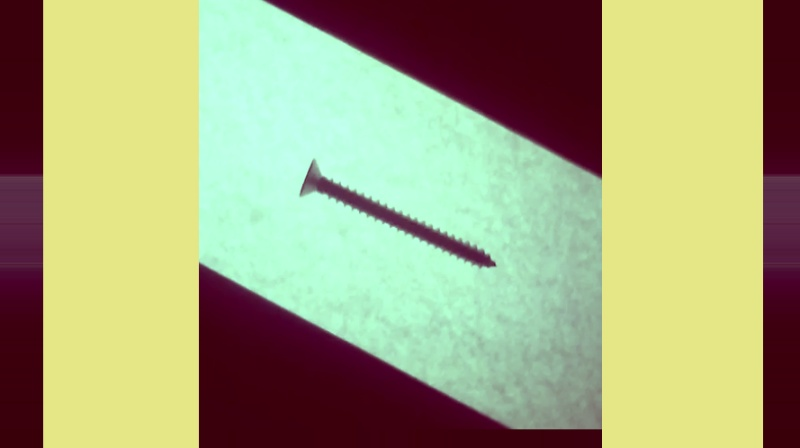S002: (295, 153, 497, 271)
